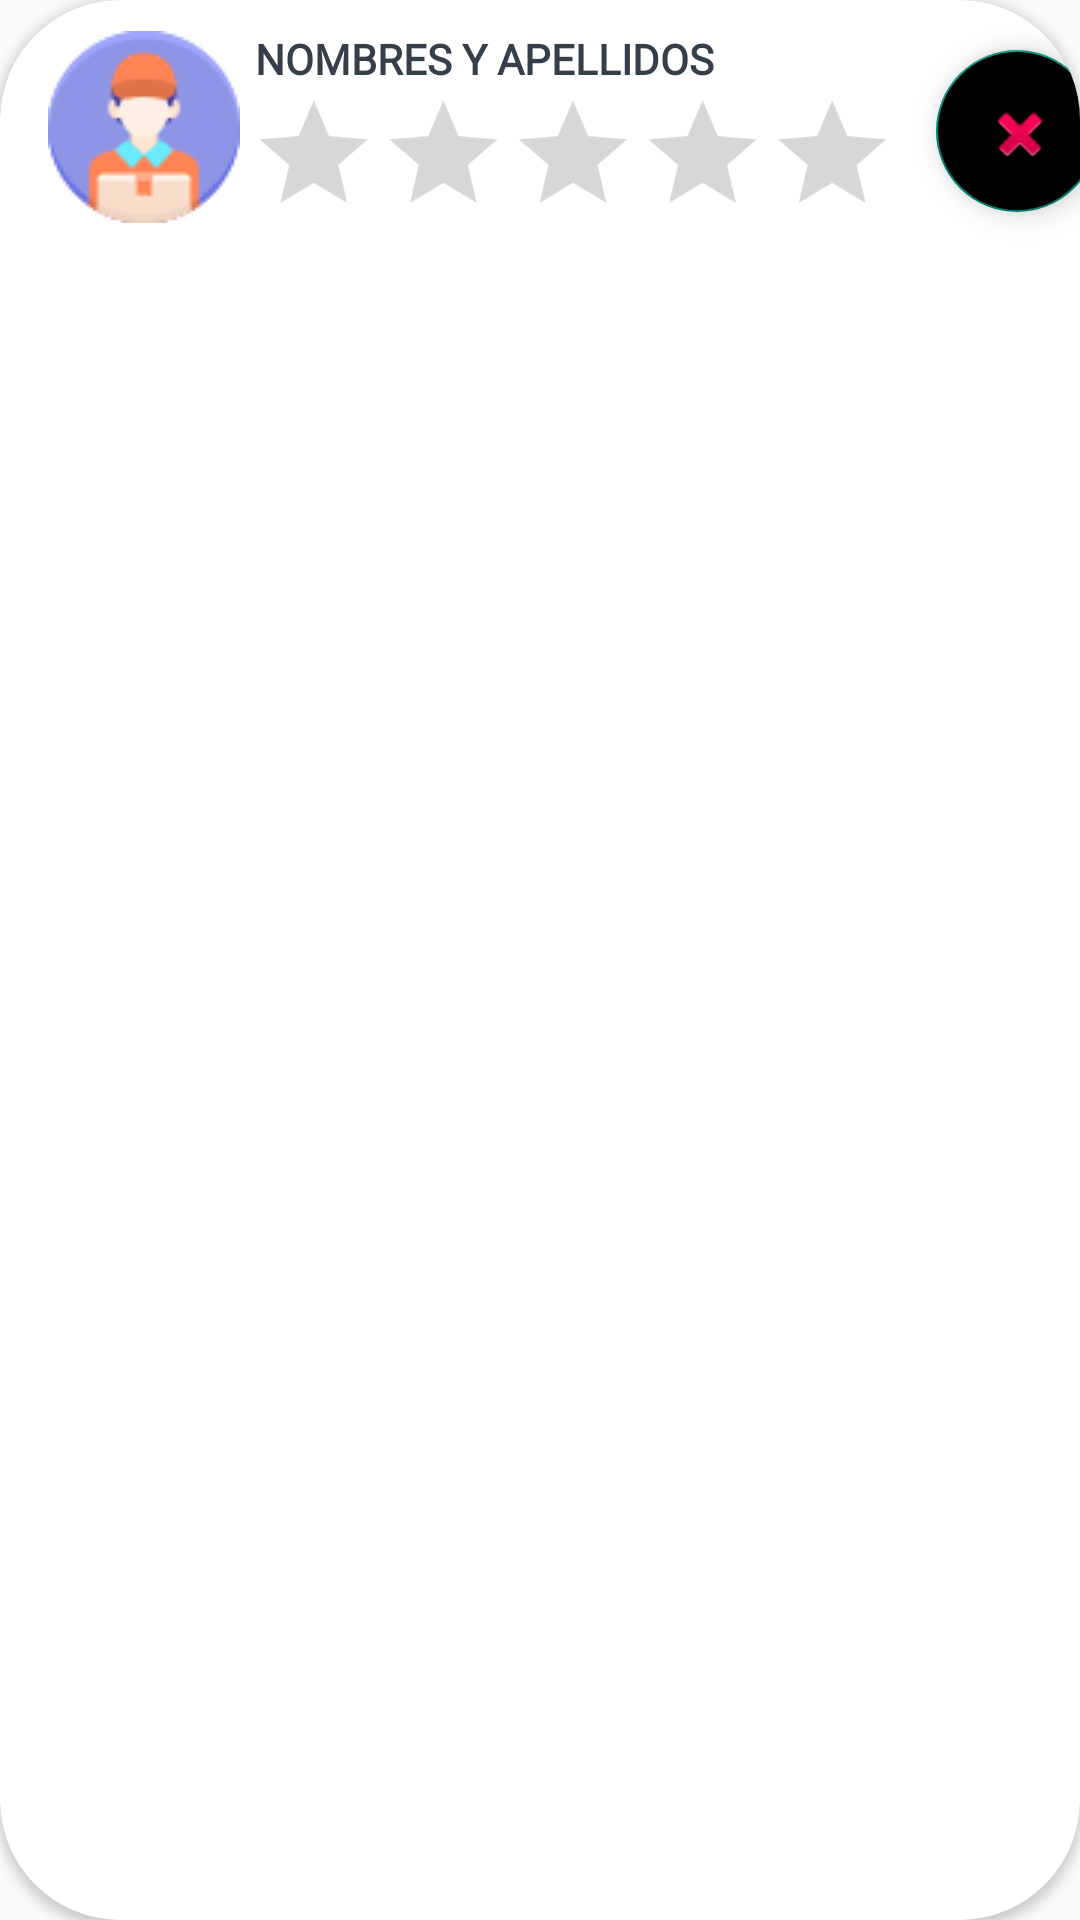

Icon bounding boxes for this 1080w x 1920h phone screenshot, format (x1, y1, x2, y2):
repartidor: (48, 31, 240, 223)
